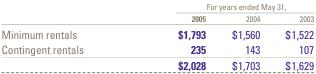table: (0, 1, 313, 71)
table column: (0, 1, 130, 71), (130, 1, 218, 71), (218, 1, 271, 71), (271, 1, 313, 71)
table column header: (0, 1, 313, 24)
table row: (0, 24, 313, 41), (0, 41, 313, 56), (0, 56, 313, 71), (0, 11, 313, 24), (0, 1, 313, 11)
table spanning cell: (130, 1, 313, 11)
